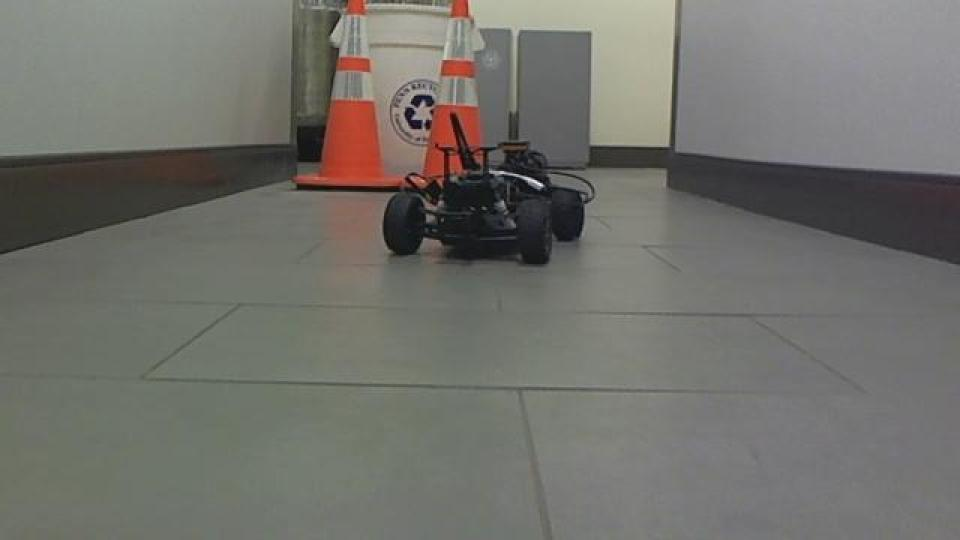car: (378, 109, 597, 267)
